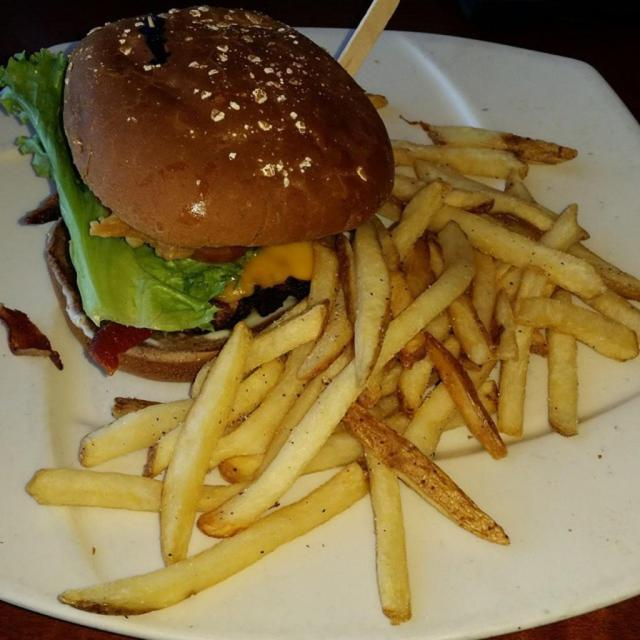French Fries: (35, 105, 640, 613)
Hamburger: (0, 0, 395, 377)
